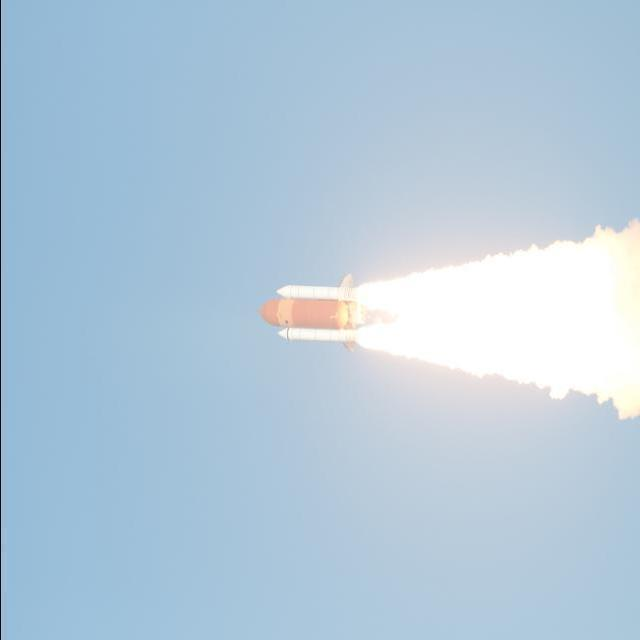missile: (258, 269, 408, 357)
